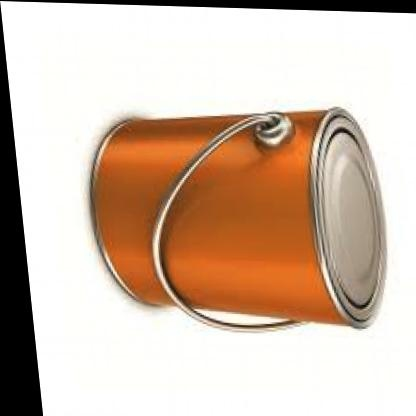trash: (91, 108, 385, 327)
